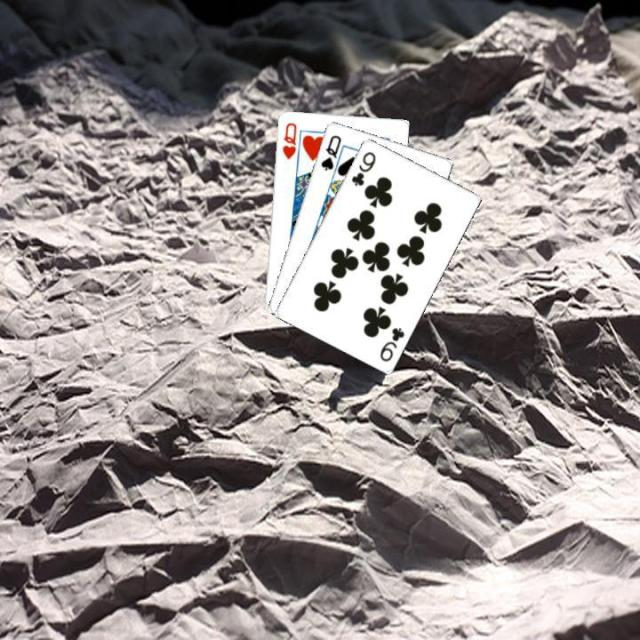9C: (348, 148, 378, 188), (376, 324, 406, 364)
QH: (278, 118, 298, 161)
QS: (317, 130, 343, 172)
